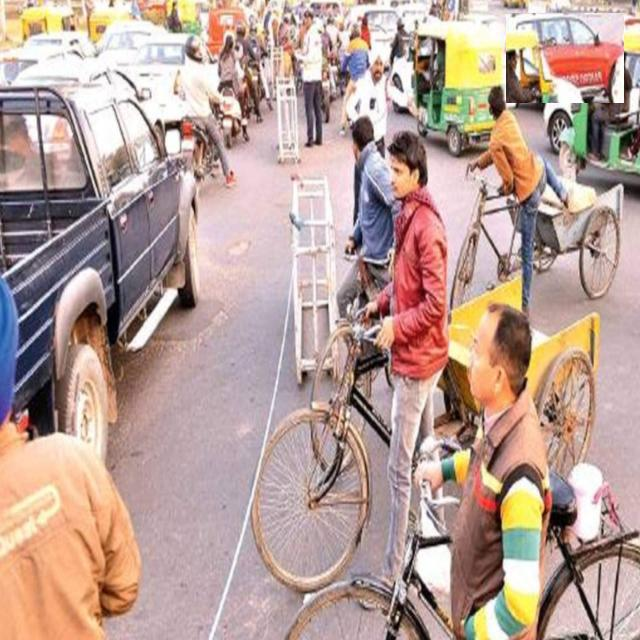autorickshaw: (408, 22, 504, 154), (560, 29, 640, 178)
bicycle: (252, 173, 600, 591), (450, 87, 622, 313)
car: (506, 14, 624, 103)
truck: (0, 69, 199, 458)
